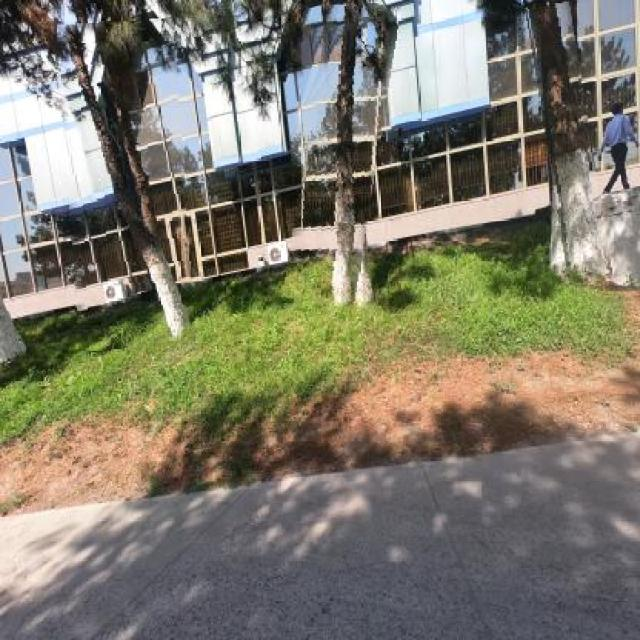tree trunk: (63, 18, 191, 350), (292, 0, 388, 306), (536, 2, 602, 284)
